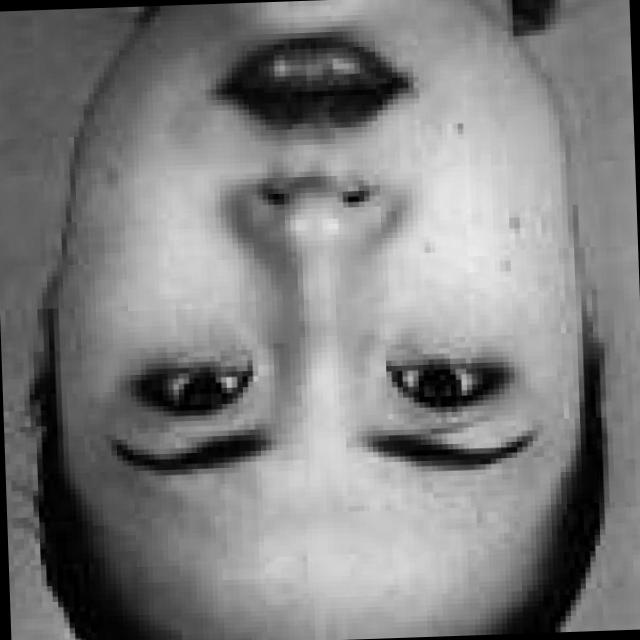disgust: (52, 0, 605, 578)
